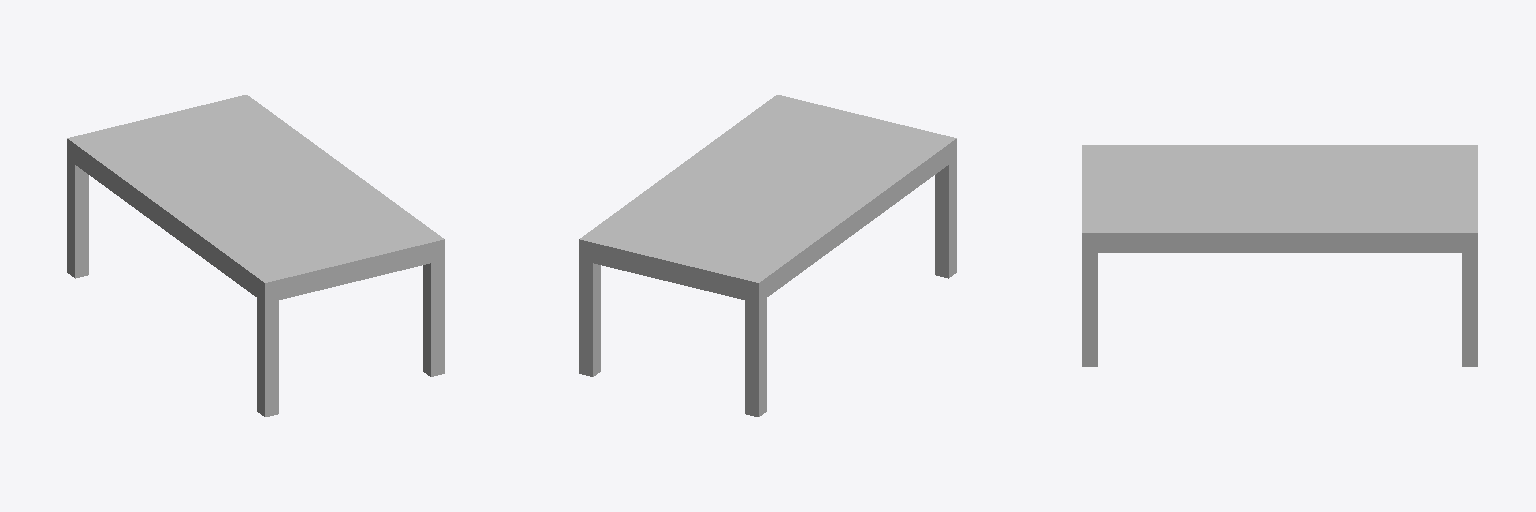
File: Stol.obj
3 views of the same model, side by side, from view 1: azimuth 30°, elevation 25°; view 2: azimuth 150°, elevation 25°; view 3: azimuth 270°, elevation 25° (orthographic).
Parts seen in each view (by area): view 1: Cube.006_Cube.011; view 2: Cube.006_Cube.011; view 3: Cube.006_Cube.011.
Boxes of the visible parts, x1,y1,x2,y2 form: Cube.006_Cube.011: [67, 95, 444, 416]; Cube.006_Cube.011: [579, 95, 956, 416]; Cube.006_Cube.011: [1082, 145, 1477, 366].
Size of the model in its own units: 2.16 by 1.55 by 4.13.